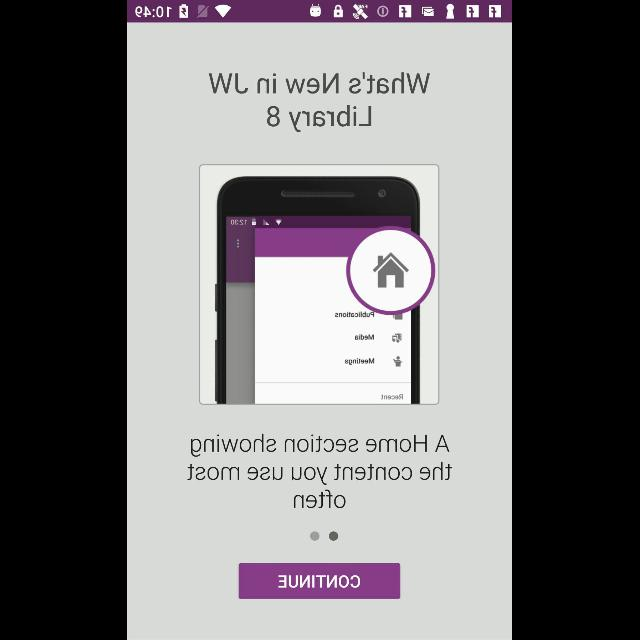image: (200, 164, 440, 406)
pageindicator: (310, 531, 340, 541)
text: (188, 434, 452, 508), (210, 73, 430, 134)
textbutton: (240, 563, 400, 599)
uppertaskbar: (128, 1, 512, 23)
